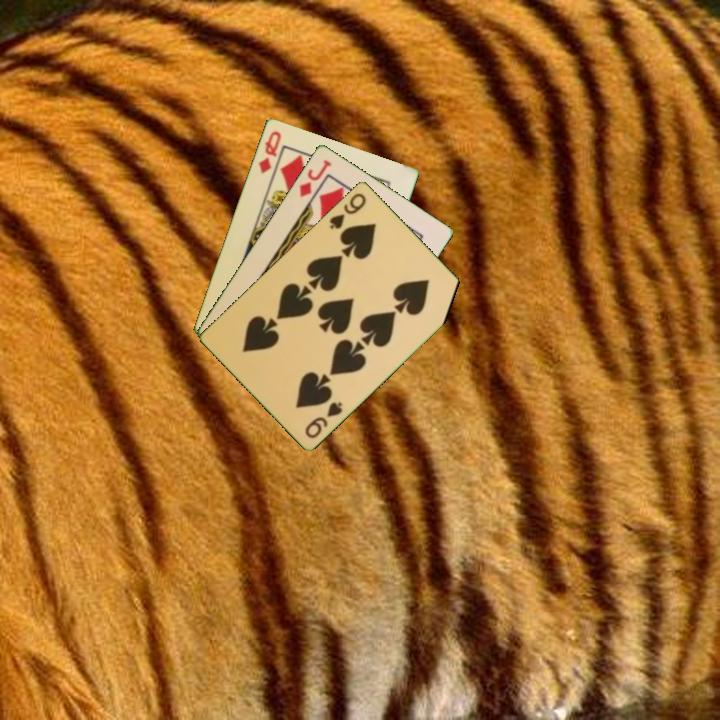9s: (301, 397, 346, 441), (326, 189, 369, 232)
Jd: (296, 156, 334, 200)
Qd: (255, 127, 284, 176)
